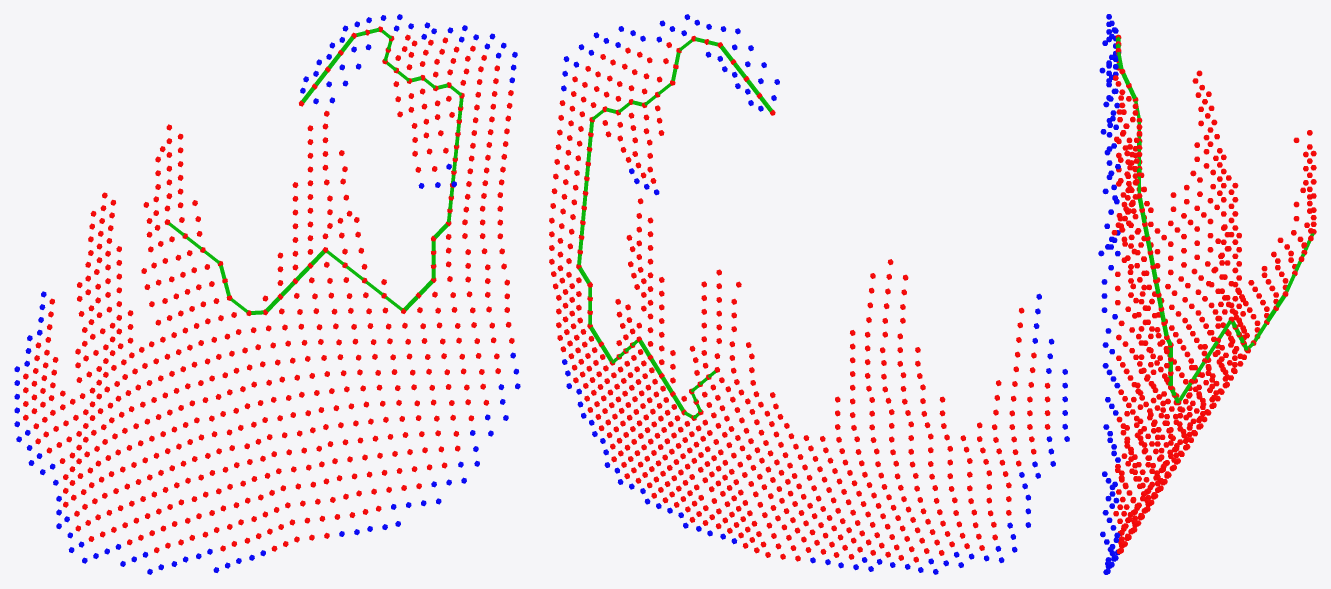
File: WrongPath.glb
The picture shows the model from 3 angles, left to right: view 1: azimuth 30°, elevation 25°; view 2: azimuth 150°, elevation 25°; view 3: azimuth 270°, elevation 25°; orthographic projection. The views are drawn at different scales.
Bounding box in the file's own units: 0.783 × 0.7626 × 0.2852.
